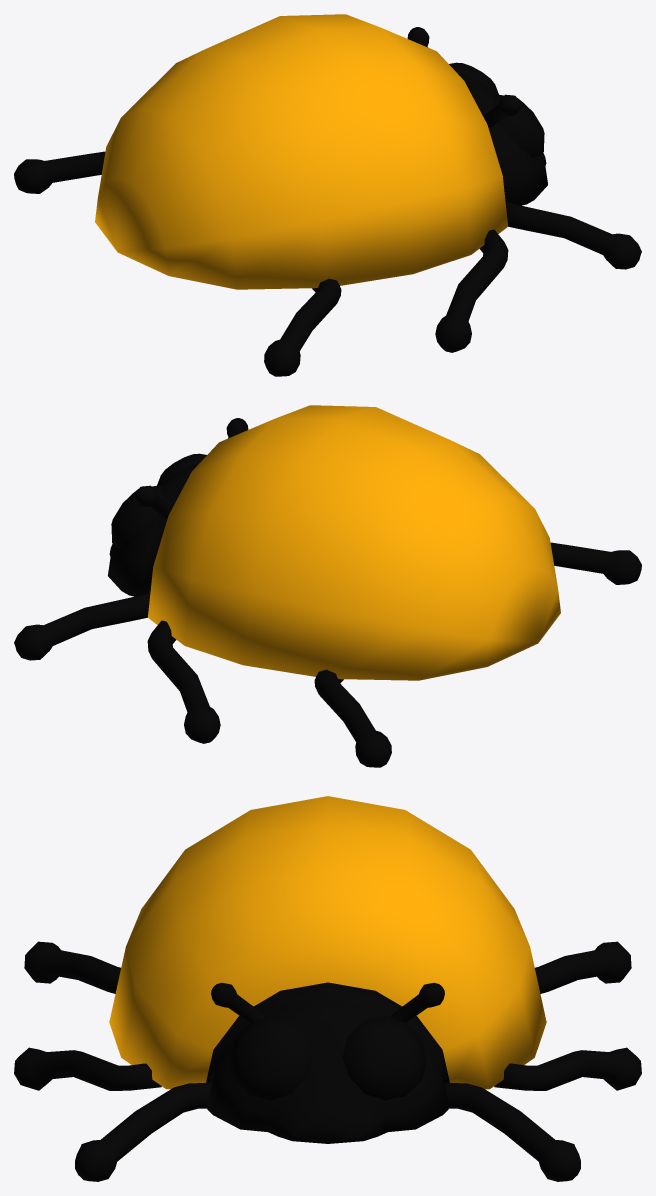
Rendered from ladybug.glb.
The picture shows the model from 3 angles, top to bottom: view 1: azimuth 30°, elevation 25°; view 2: azimuth 150°, elevation 25°; view 3: azimuth 270°, elevation 25°; orthographic projection. The views are drawn at different scales.
Visible parts, largest first — view 1: LadyBug; view 2: LadyBug; view 3: LadyBug.
Boxes of the visible parts, left/top/right/bottom form: LadyBug: left=14, top=14, right=641, bottom=376; LadyBug: left=14, top=405, right=641, bottom=767; LadyBug: left=14, top=796, right=641, bottom=1181.
Bounding box in the file's own units: 2.51 × 1.31 × 2.87.
